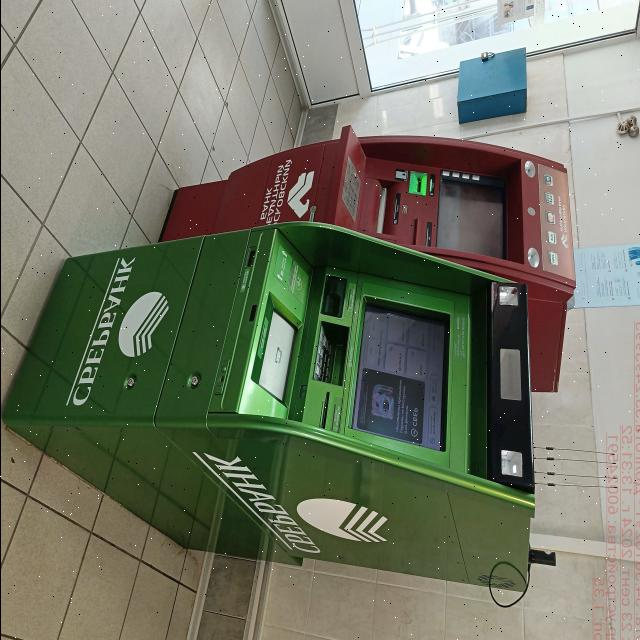bank: (1, 221, 536, 594)
